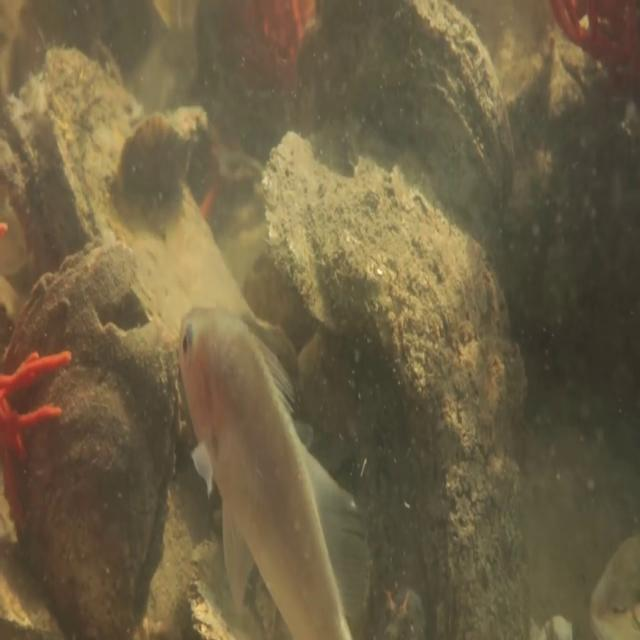Oyster-Closed: (261, 127, 547, 633)
Oyster-Indeterminate: (0, 234, 180, 639)
